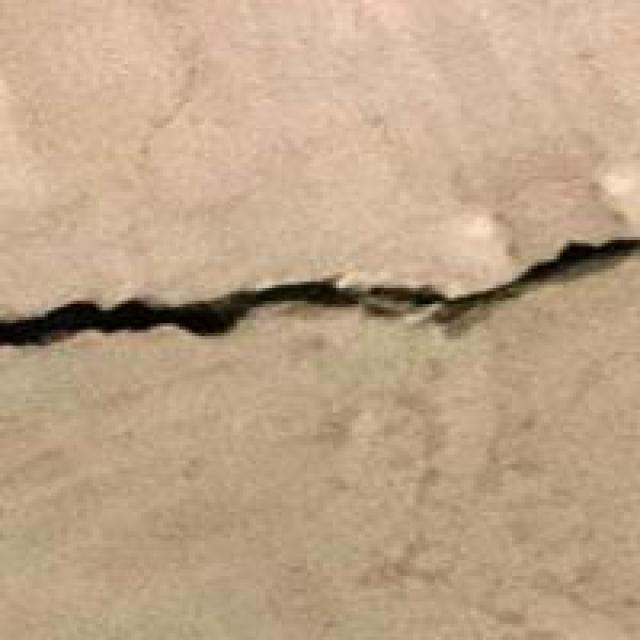Crack: (0, 208, 637, 435)
